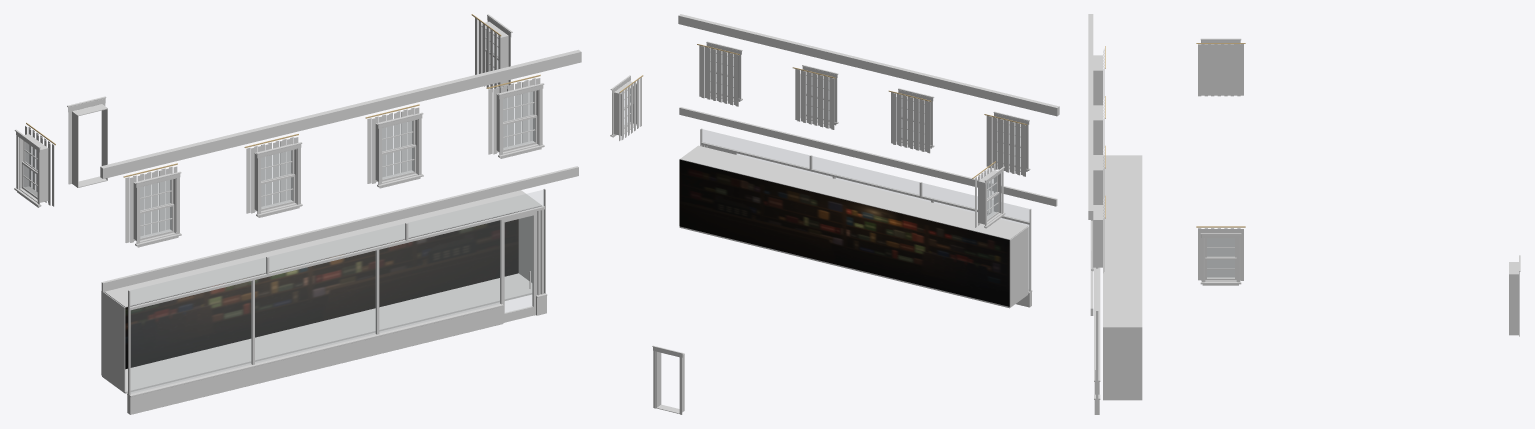
The model's file is SM_Town_Gazette_Trim.fbx.
3 views of the same model, side by side, from view 1: azimuth 30°, elevation 25°; view 2: azimuth 150°, elevation 25°; view 3: azimuth 270°, elevation 25° (orthographic). The views are drawn at different scales.
Visible parts, largest first — view 1: SM_Town_Gazette_Trim_1; view 2: SM_Town_Gazette_Trim_1; view 3: SM_Town_Gazette_Trim_1.
Boxes of the visible parts, x1,y1,x2,y2 form: SM_Town_Gazette_Trim_1: (14,14,581,414); SM_Town_Gazette_Trim_1: (610,14,1059,414); SM_Town_Gazette_Trim_1: (1088,14,1520,414).
Bounding box in the file's own units: 1424 × 730 × 1320.
